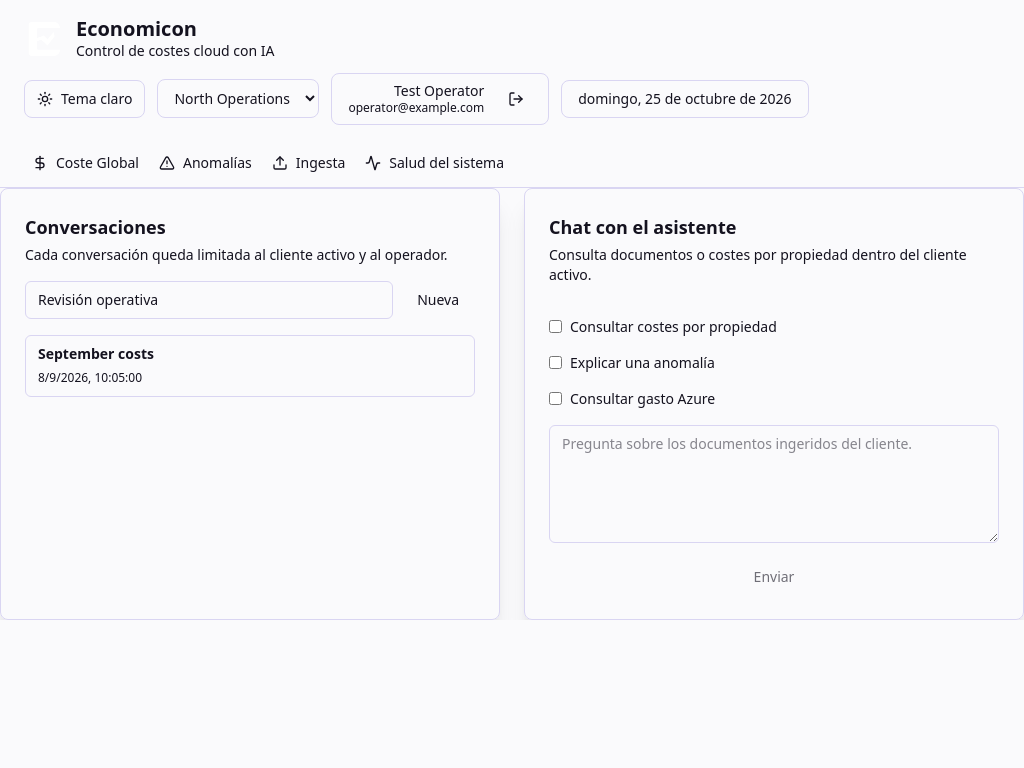
assistant conversations › retains an unsent message after a send error and permits retry
Type "Where can we reduce compute costs?" into the text box with placeholder "Pregunta sobre los documentos ingeridos del cliente." at [774, 484], box [549,424,999,542]
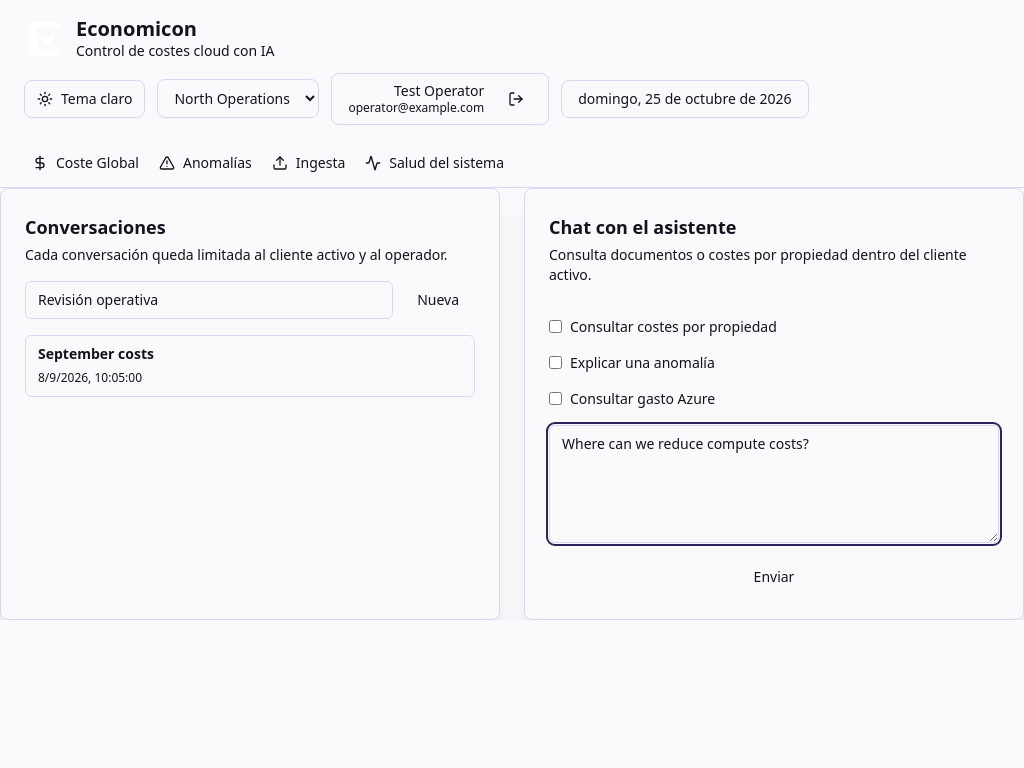
Click the button "Enviar" at [774, 576], box [549,558,999,594]
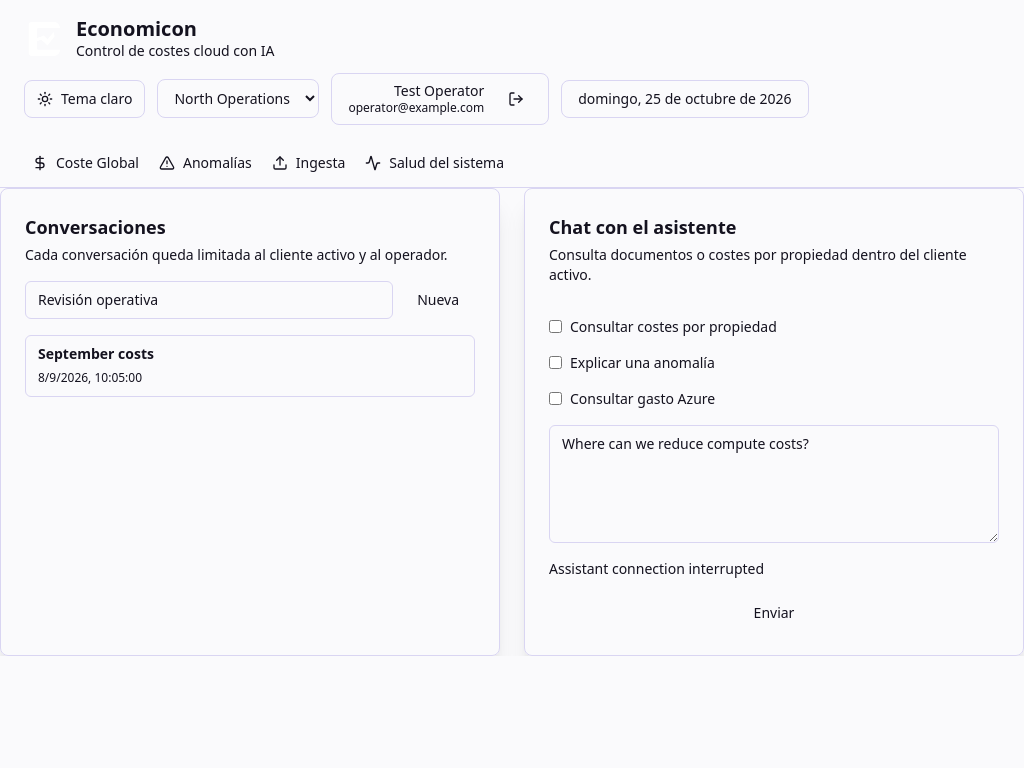
Expected: the text "The billing document identifies idle compute instances." is not shown
Expected: the button "Enviar" is enabled
Expected: the text "Assistant connection interrupted" is shown, [549,558,764,578]
Click the button "Enviar" at [774, 612], box [549,594,999,630]
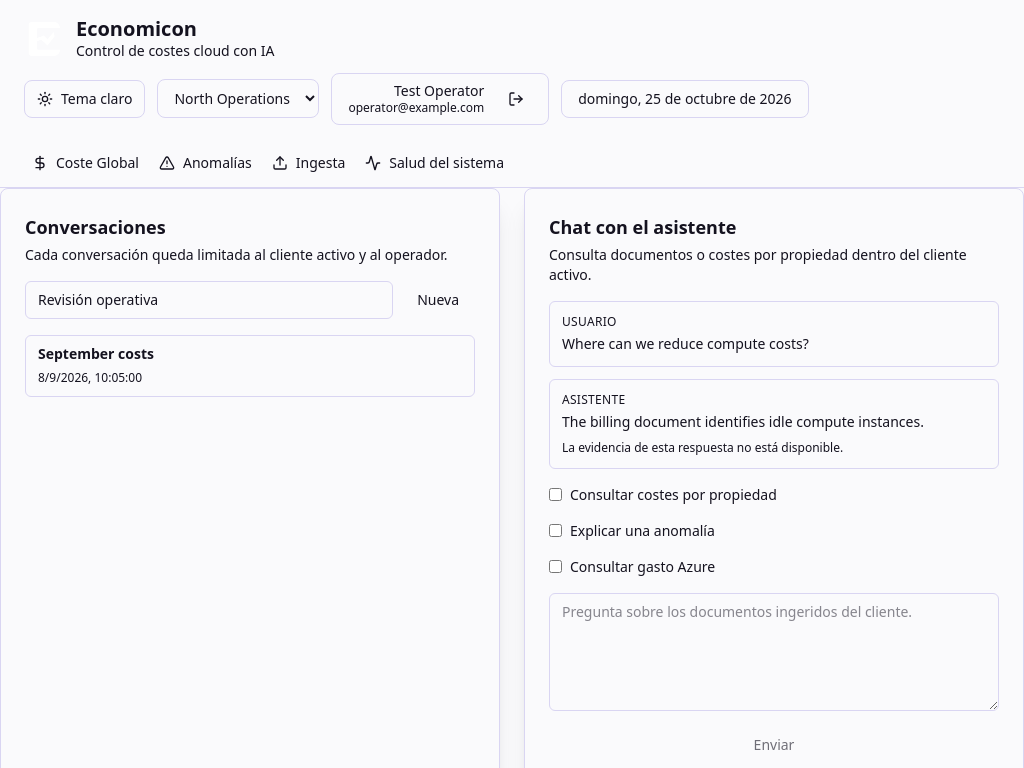
Expected: the text "The billing document identifies idle compute instances." is shown, [562,412,986,432]
Expected: the text box with placeholder "Pregunta sobre los documentos ingeridos del cliente." is empty, [549,592,999,710]
Expected: the text "Assistant connection interrupted" is gone
